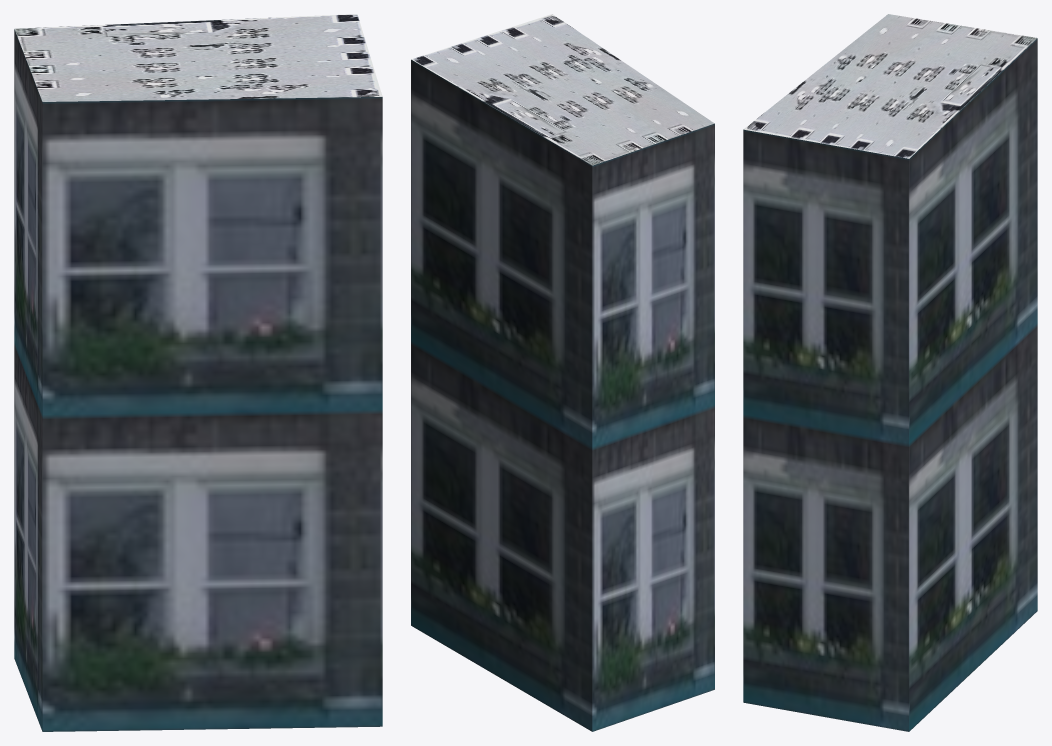
Rendered from ResTex__2423.fbx.
3 views of the same model, side by side, from view 1: azimuth 30°, elevation 25°; view 2: azimuth 150°, elevation 25°; view 3: azimuth 270°, elevation 25° (orthographic). The views are drawn at different scales.
Visible parts, largest first — view 1: CityEngineMaterial_11_m, CityEngineMaterial_8_m; view 2: CityEngineMaterial_11_m, CityEngineMaterial_8_m; view 3: CityEngineMaterial_11_m, CityEngineMaterial_8_m.
Boxes of the visible parts, <box> form: CityEngineMaterial_11_m: <box>14,29,382,731</box>; CityEngineMaterial_8_m: <box>14,14,382,101</box>; CityEngineMaterial_11_m: <box>411,59,714,731</box>; CityEngineMaterial_8_m: <box>411,14,714,165</box>; CityEngineMaterial_11_m: <box>743,38,1037,731</box>; CityEngineMaterial_8_m: <box>743,14,1037,158</box>.
Size of the model in its own units: 3.25 by 6 by 2.79.
2 materials, 2 textured.
